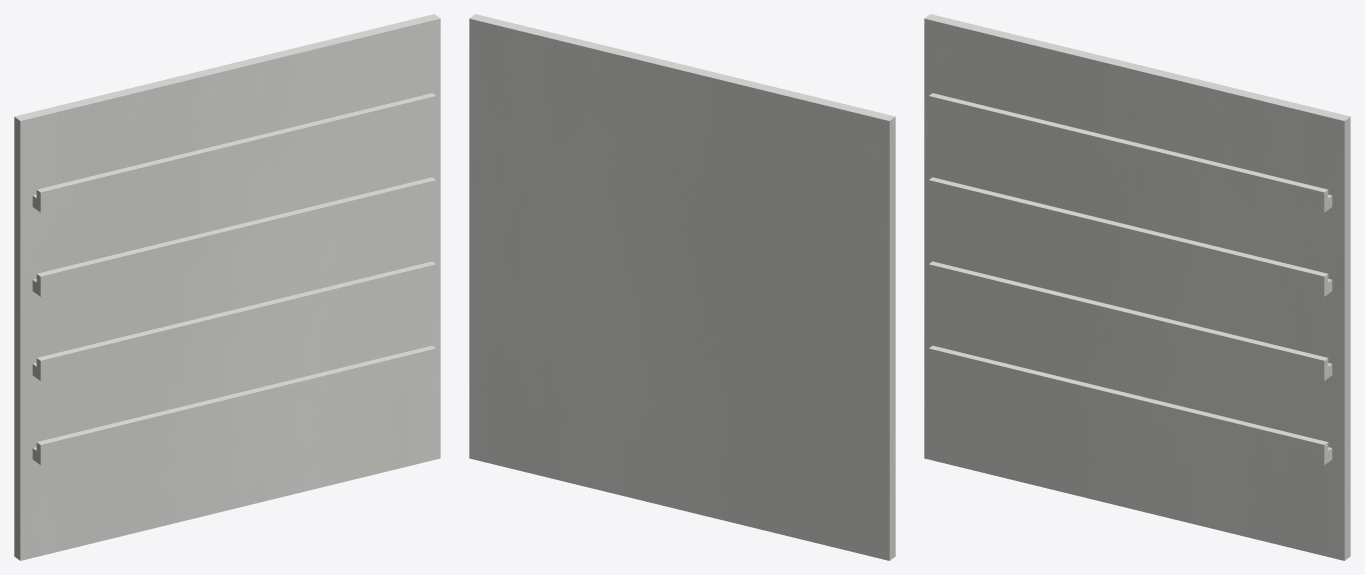
File: SM_DecoraçãoParede.fbx
3 views of the same model, side by side, from view 1: azimuth 30°, elevation 25°; view 2: azimuth 150°, elevation 25°; view 3: azimuth 330°, elevation 25° (orthographic).
Parts seen in each view (by area): view 1: SM_DecoraçãoParede; view 2: SM_DecoraçãoParede; view 3: SM_DecoraçãoParede.
Boxes of the visible parts, box(x1,y1,x2,y2) form: SM_DecoraçãoParede: box(14, 14, 440, 560); SM_DecoraçãoParede: box(469, 14, 895, 560); SM_DecoraçãoParede: box(924, 14, 1350, 560).
Size of the model in its own units: 177 by 177 by 10.21.
